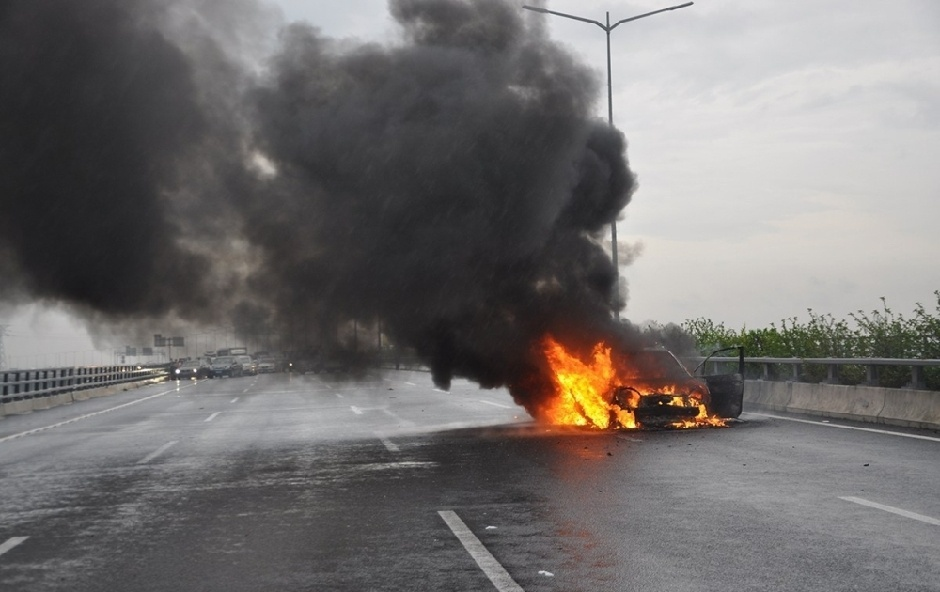fire: (535, 335, 725, 432)
